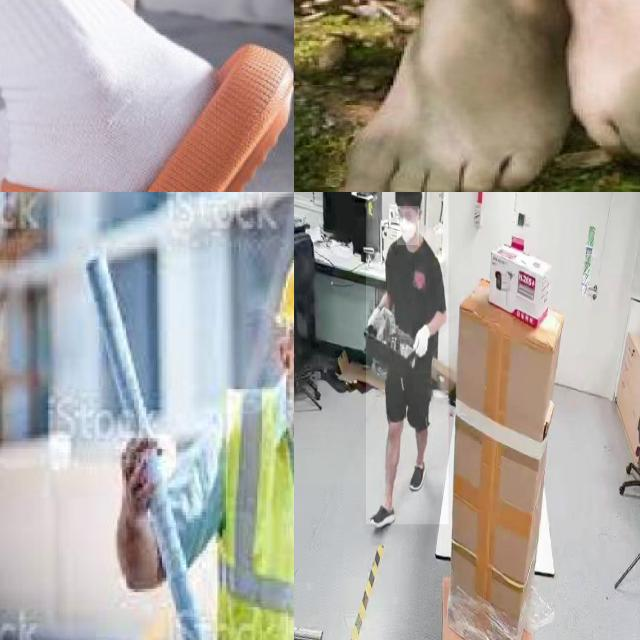Barefoots: (345, 0, 565, 192)
Sandals: (0, 29, 294, 192)
face_mask: (397, 206, 419, 246)
hand_glove: (412, 322, 434, 371), (368, 304, 386, 339)
person: (366, 192, 449, 525)
shoes: (369, 498, 398, 530), (407, 454, 427, 490)
